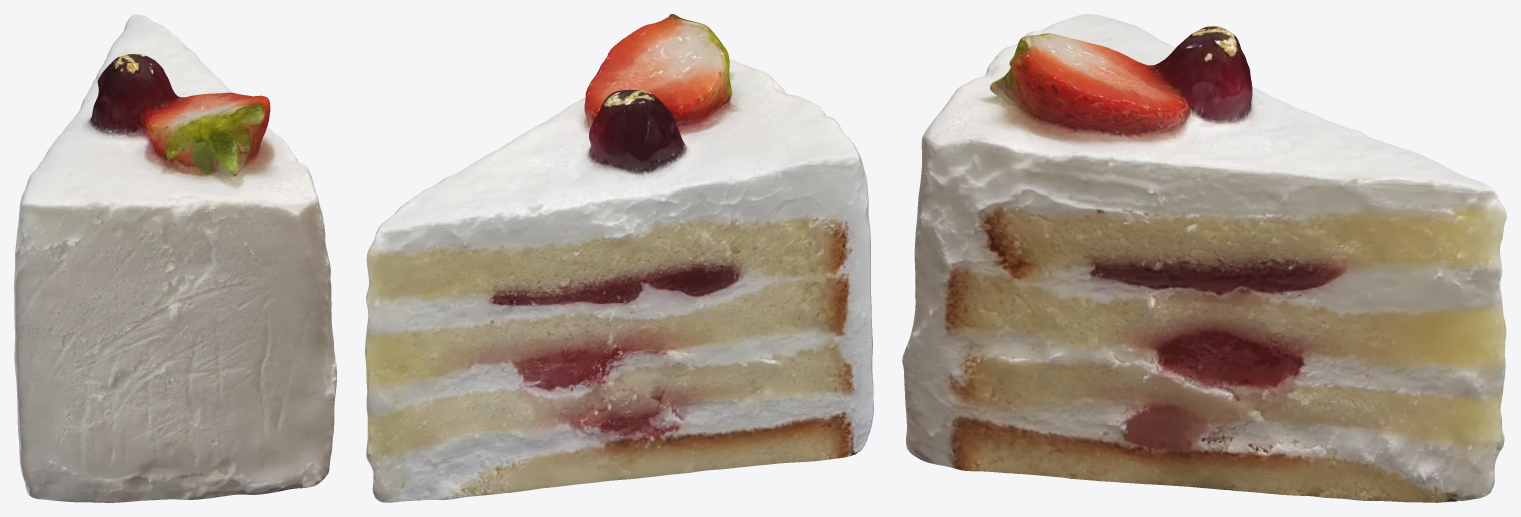
The model's file is vanilla.glb.
3 renders of one model, left to right at view 1: azimuth 30°, elevation 25°; view 2: azimuth 150°, elevation 25°; view 3: azimuth 270°, elevation 25°, orthographic. The views are drawn at different scales.
Parts seen in each view (by area): view 1: Model; view 2: Model; view 3: Model.
Boxes of the visible parts, x1,y1,x2,y2 form: Model: (14, 14, 336, 502); Model: (365, 14, 873, 502); Model: (902, 14, 1506, 502).
Bounding box in the file's own units: 3.6 × 3.94 × 5.24.
1 material, 1 textured.
